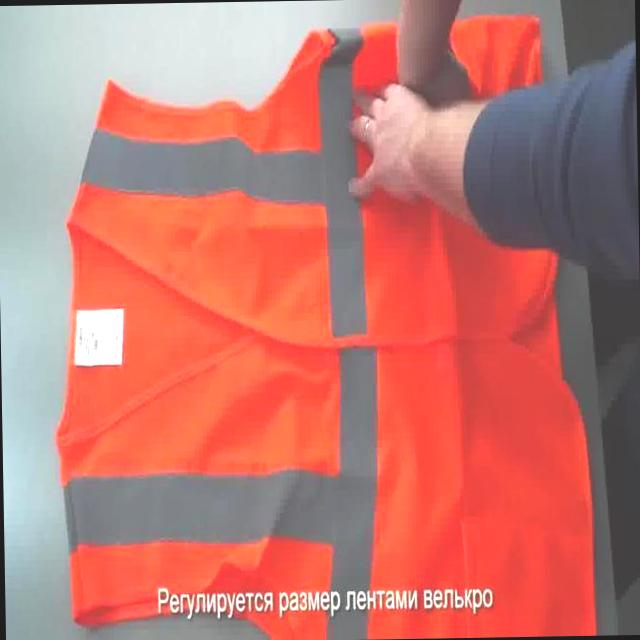vest: (46, 9, 600, 640)
